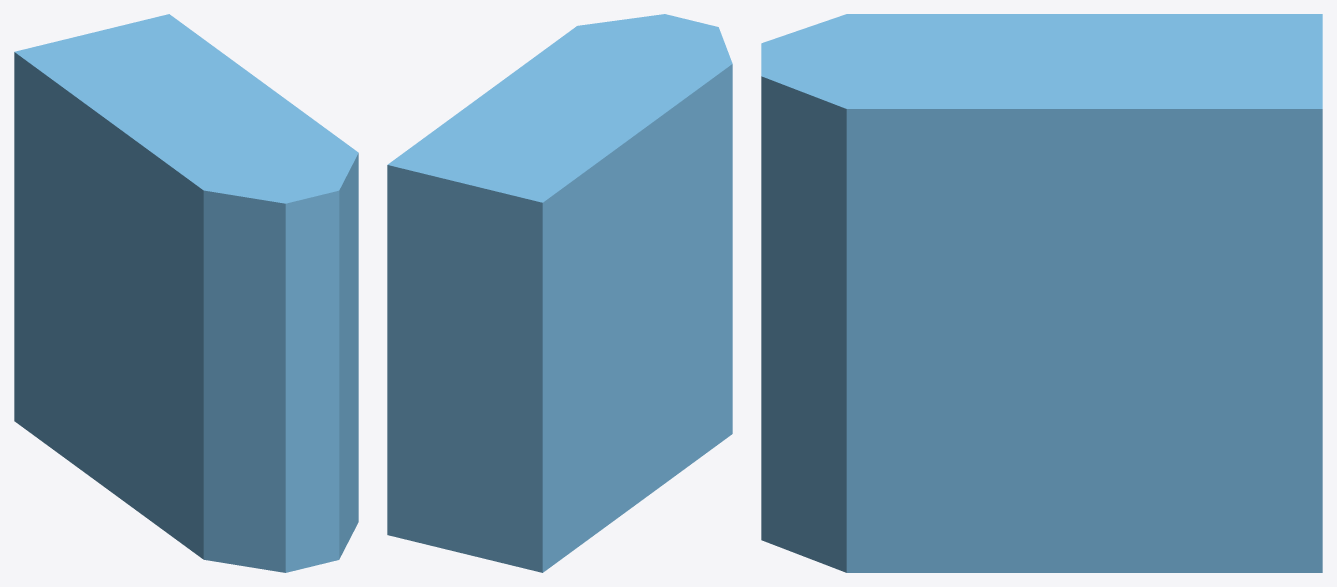
Rendered from LightBlueShelfThing.fbx.
3 renders of one model, left to right at view 1: azimuth 30°, elevation 25°; view 2: azimuth 150°, elevation 25°; view 3: azimuth 270°, elevation 25°, orthographic. The views are drawn at different scales.
Parts seen in each view (by area): view 1: Cube; view 2: Cube; view 3: Cube.
Boxes of the visible parts, x1,y1,x2,y2 form: Cube: (14,14,358,572); Cube: (387,14,732,572); Cube: (761,14,1322,572).
Size of the model in its own units: 56.21 by 128 by 140.
